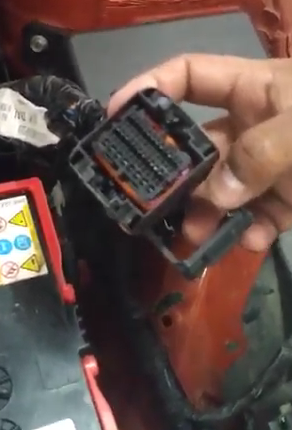connector: (54, 84, 266, 274)
